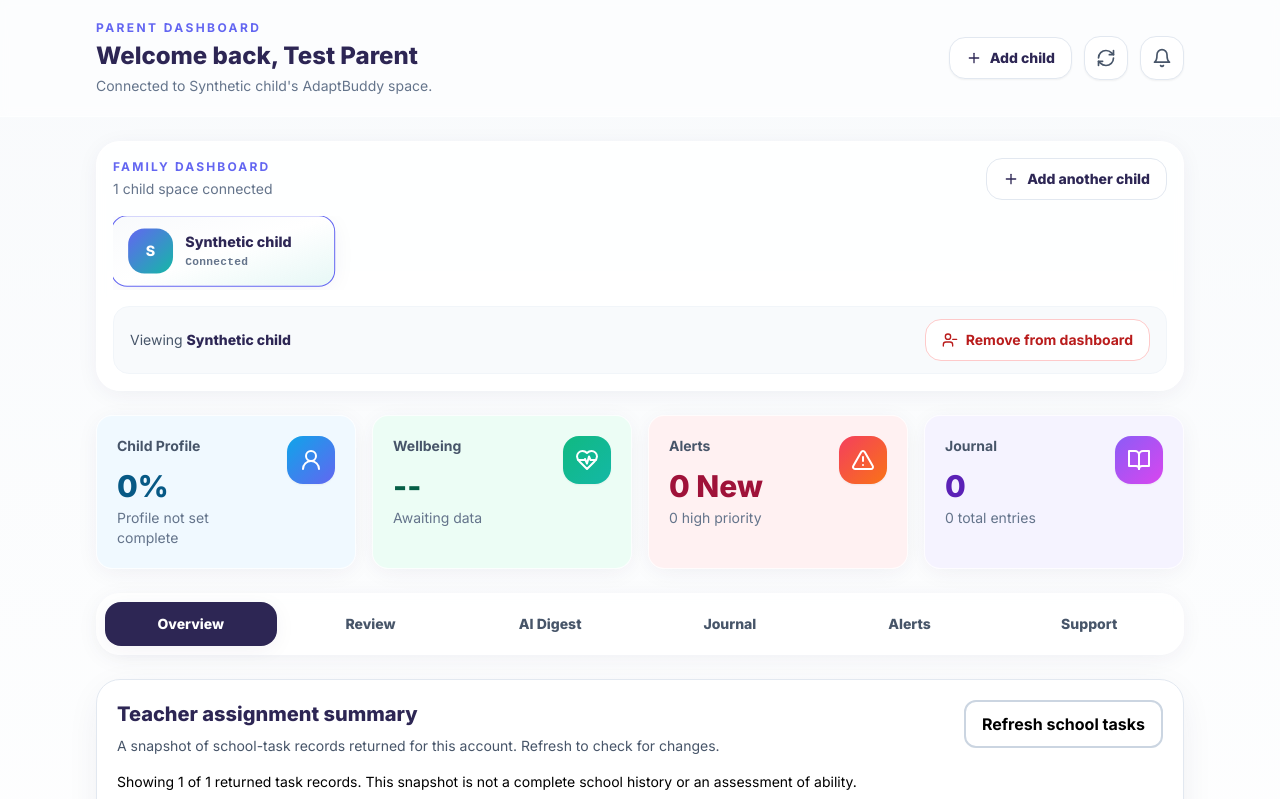
Test case: actual Parent Hub presents the scoped task summary and refreshes it
This screenshot has width=1280, height=799.
Click the button "Refresh school tasks" at (1063, 724), box [964,700,1163,748]
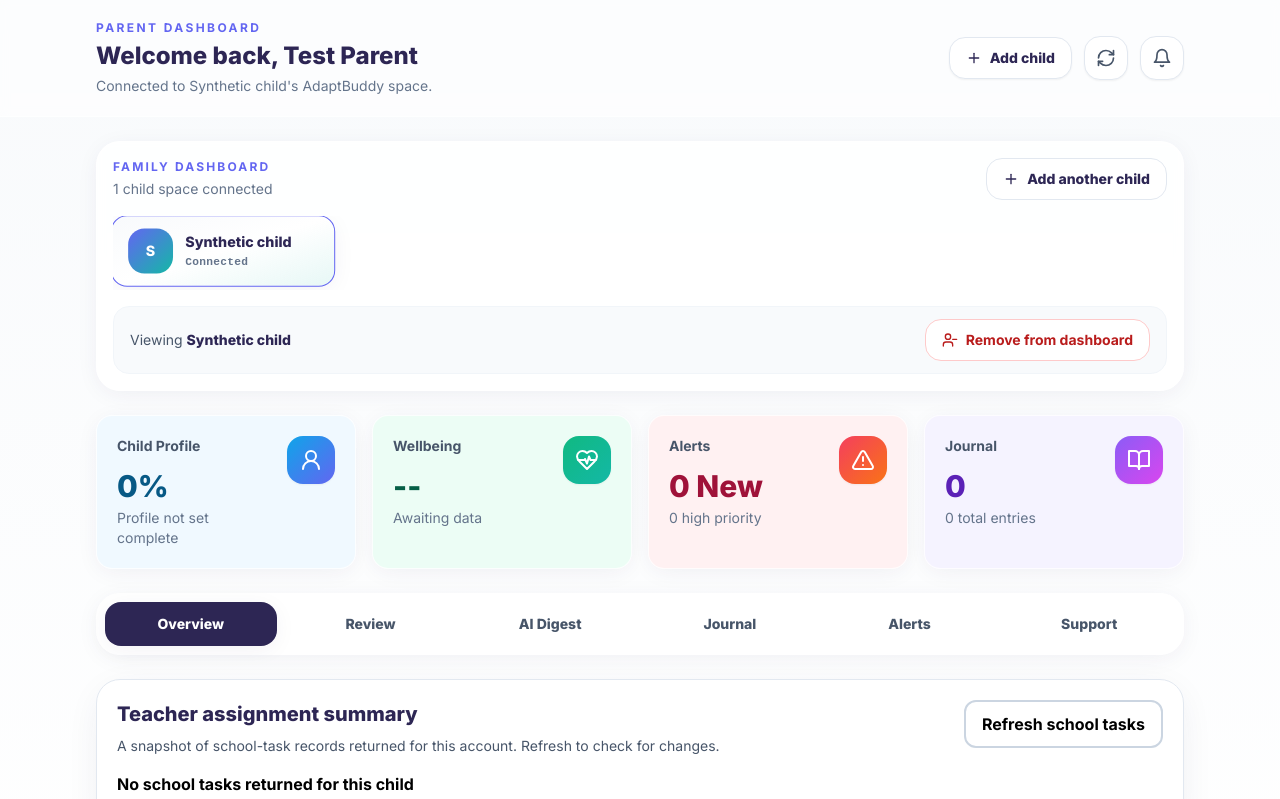
Expected: the heading "No school tasks returned for this child" is shown, [117,774,414,794]
